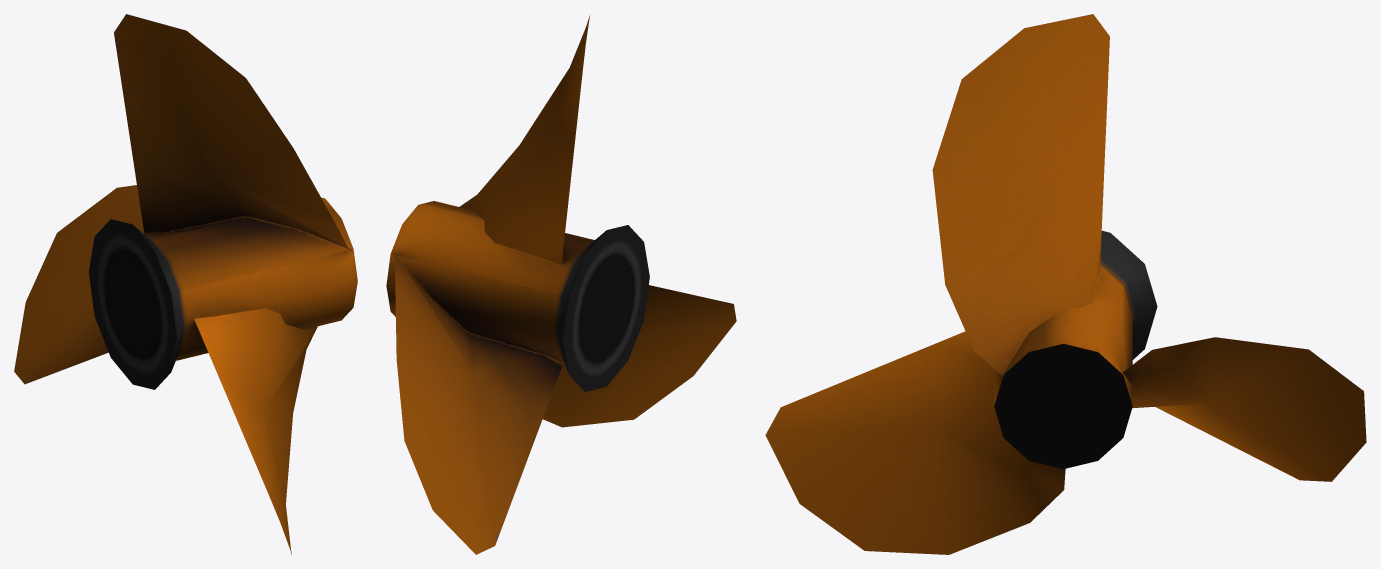
The model's file is propeller.glb.
The picture shows the model from 3 angles, left to right: view 1: azimuth 30°, elevation 25°; view 2: azimuth 150°, elevation 25°; view 3: azimuth 270°, elevation 25°; orthographic projection. The views are drawn at different scales.
Parts seen in each view (by area): view 1: Prop_Left; view 2: Prop_Left; view 3: Prop_Left.
Boxes of the visible parts, left/top/right/bottom form: Prop_Left: left=14, top=14, right=357, bottom=554; Prop_Left: left=386, top=15, right=736, bottom=554; Prop_Left: left=765, top=14, right=1366, bottom=554.
Bounding box in the file's own units: 0.1666 × 0.3941 × 0.4234.
Materials: 1 (1 with a texture image).
